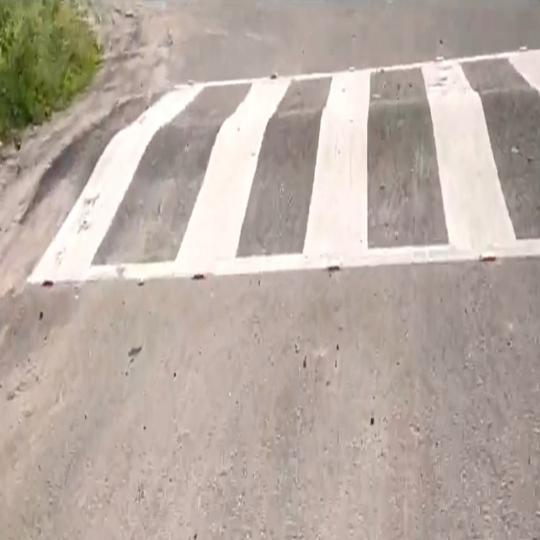Speed Bump: (17, 48, 540, 284)
